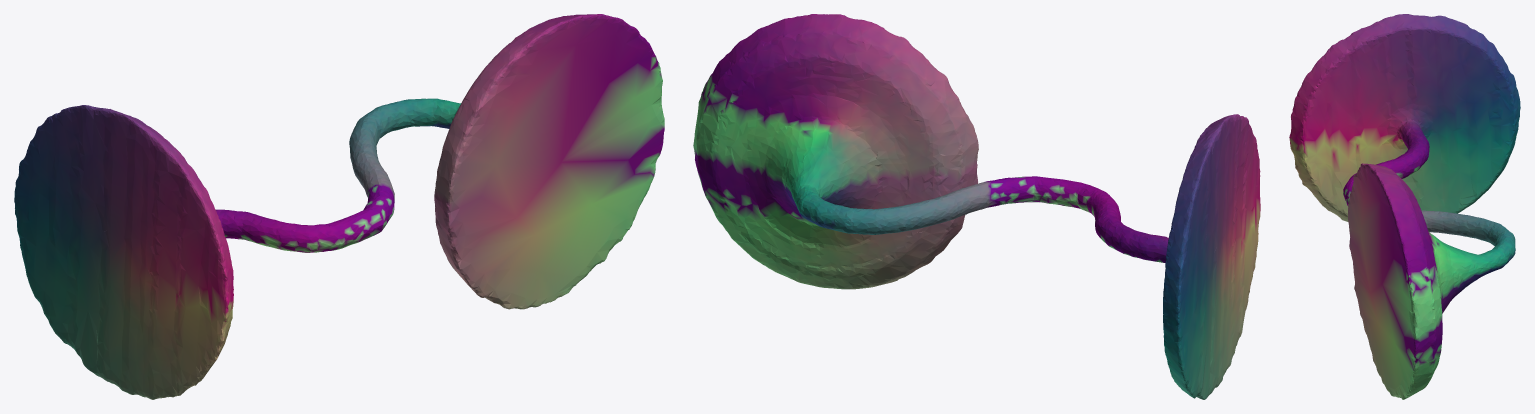
The model's file is lamp-12.off.obj.
3 renders of one model, left to right at view 1: azimuth 30°, elevation 25°; view 2: azimuth 150°, elevation 25°; view 3: azimuth 270°, elevation 25°, orthographic. The views are drawn at different scales.
Size of the model in its own units: 1.62 by 0.7553 by 0.7227.
